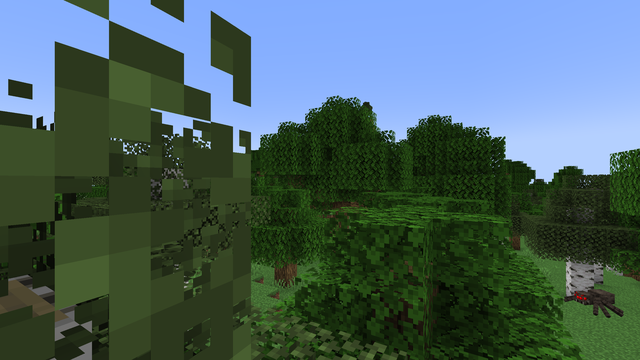araignees: (568, 283, 617, 317)
